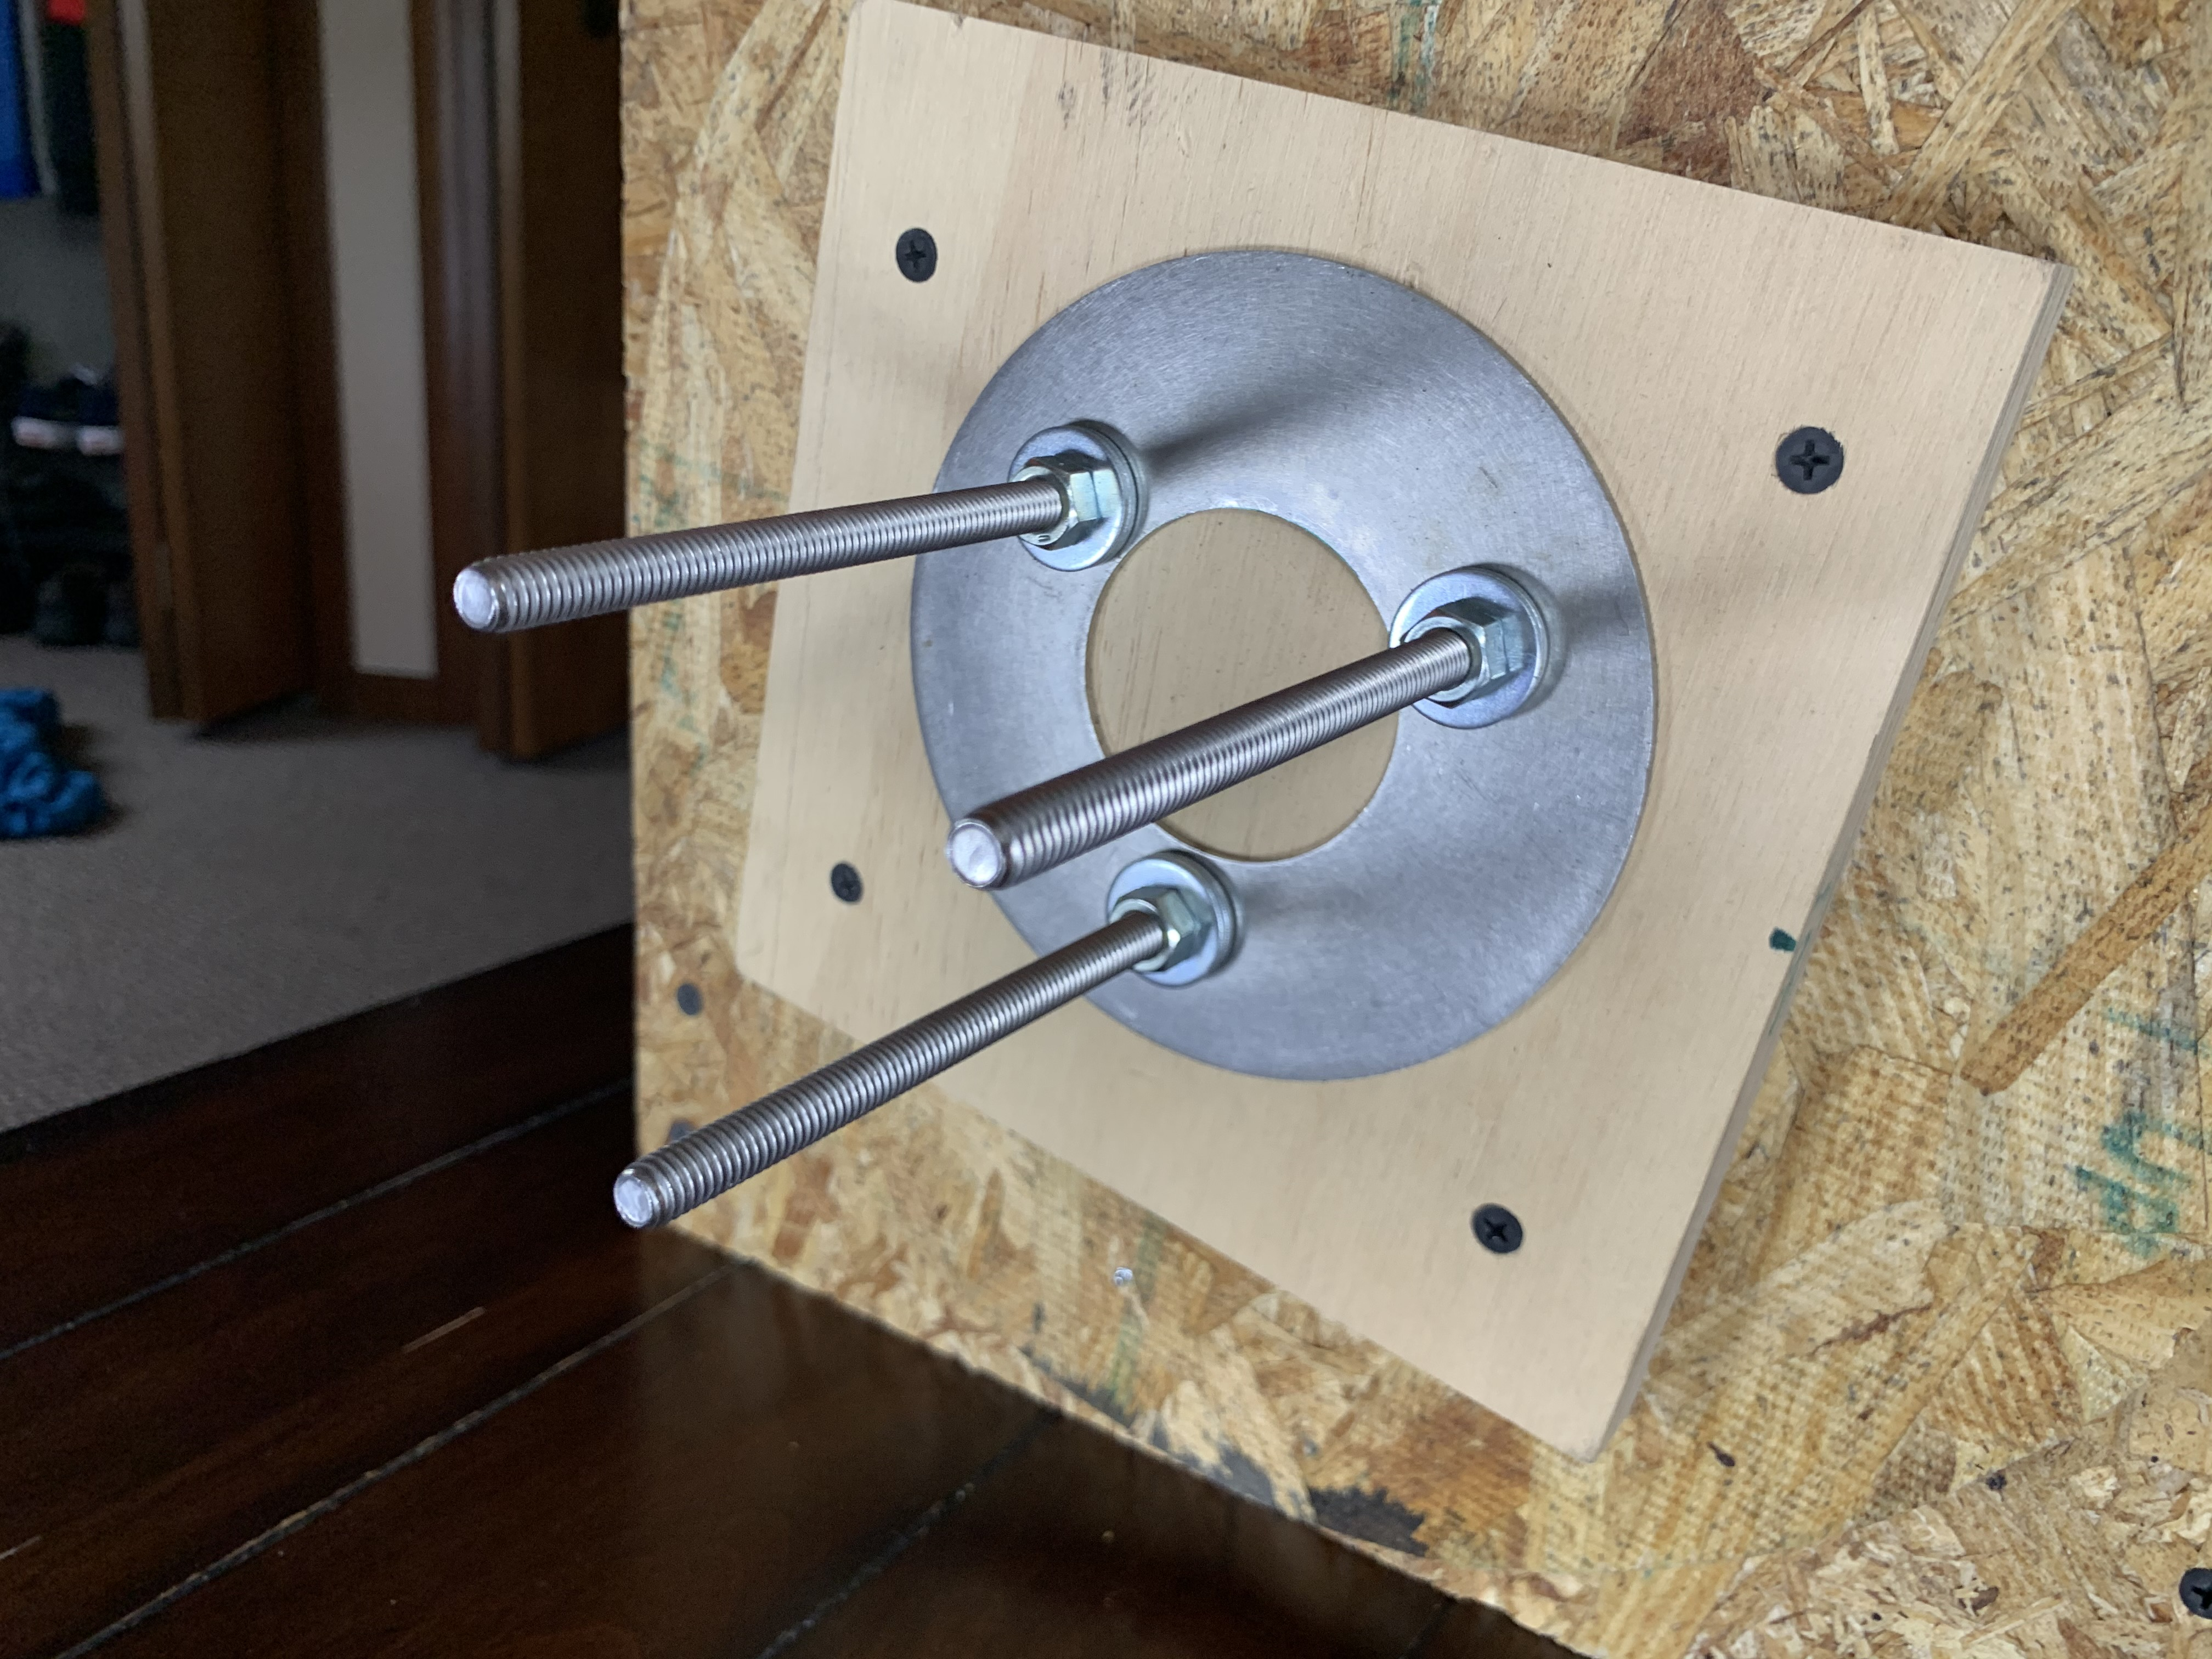bolt: (1388, 565, 1555, 734), (1003, 418, 1141, 572), (1101, 852, 1238, 993)
